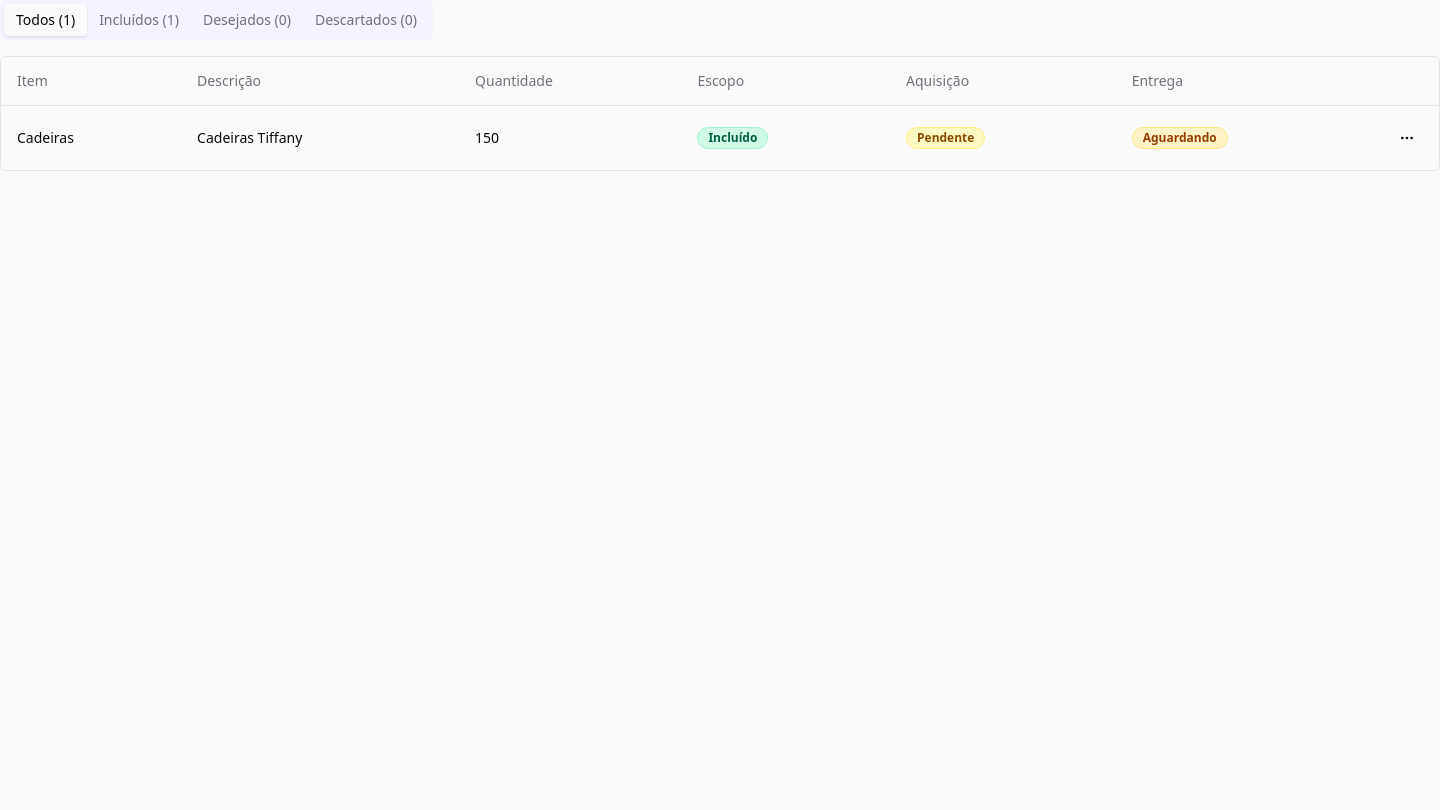
it: WeddingItemsTable › opens ConfirmDeleteDialog when Excluir is clicked
Click the button named "Ações do item": [1407, 138] box [1391,122,1423,154]
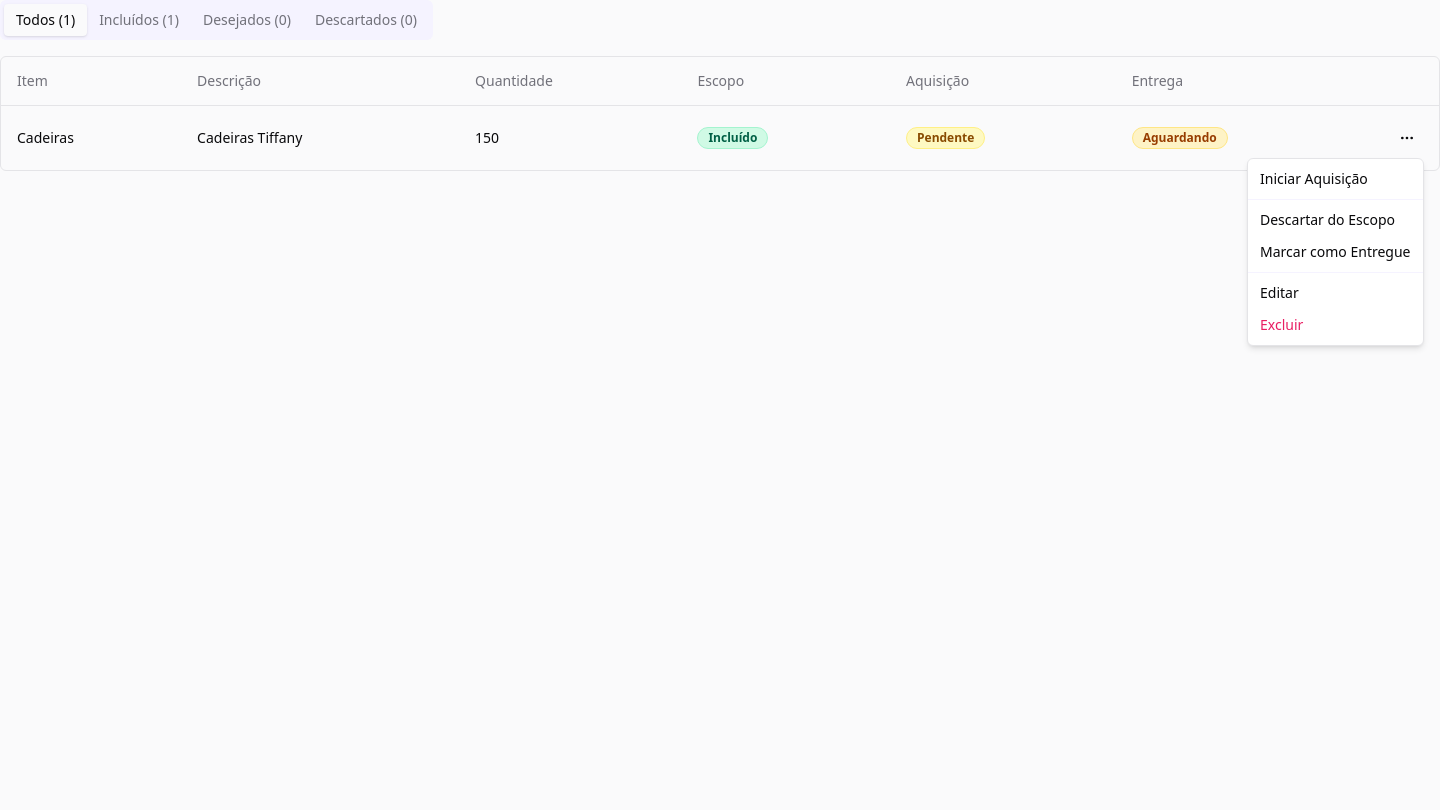
Click the menu item "Excluir": [1282, 324] box [1260,315,1303,334]
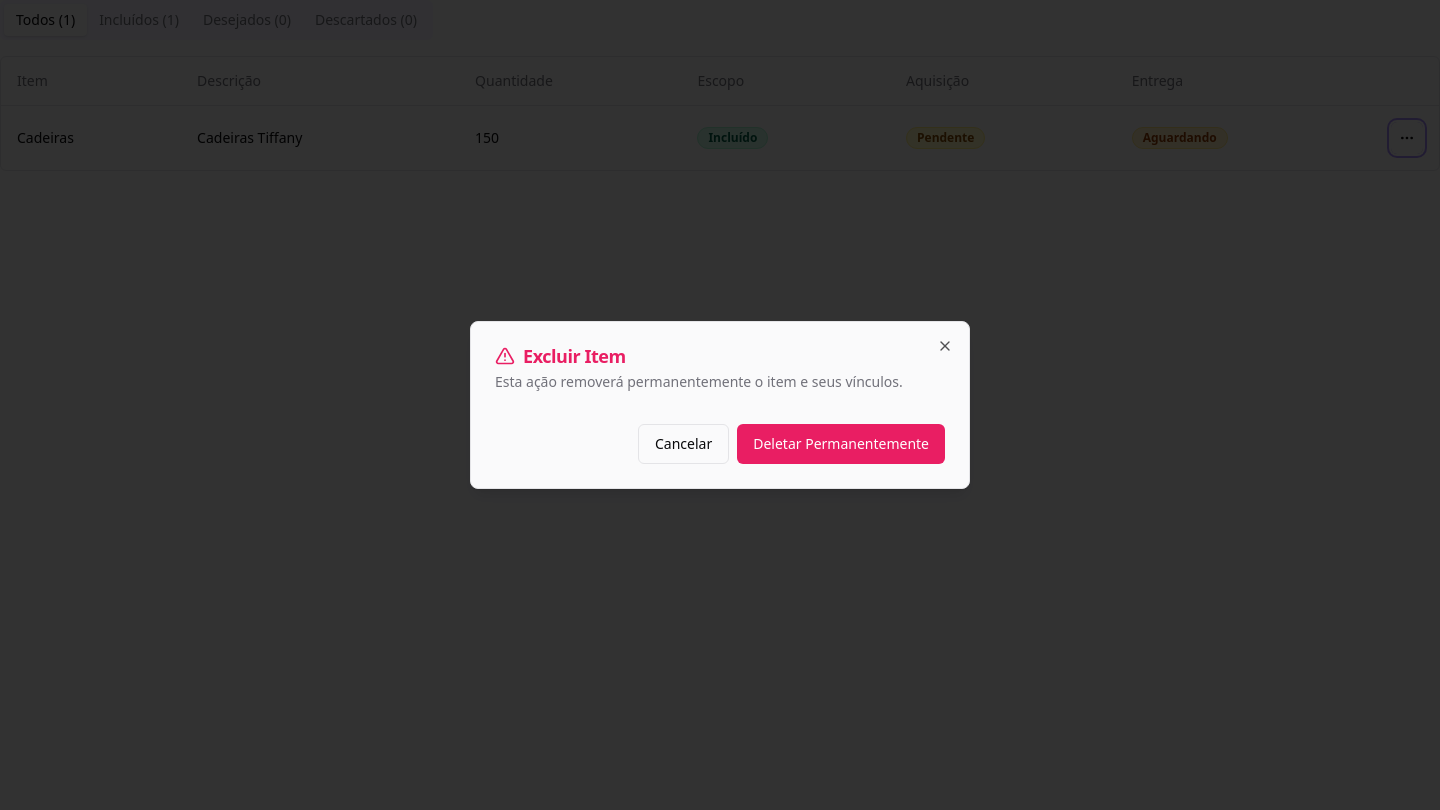
Expected: the dialog is shown, [470,321,970,489]
Expected: the heading "Excluir Item" is shown, [495,344,626,368]
